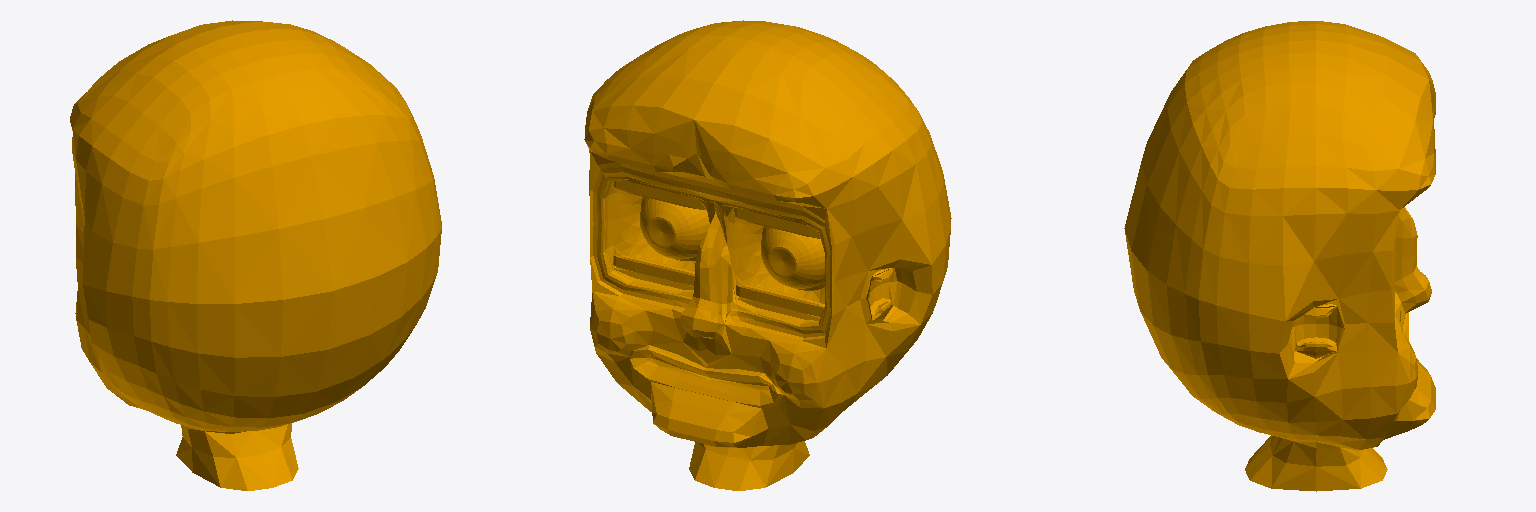
URDF robot description (robothead):
<robot name="robothead">
  <link name="robothead">
    <inertial>
      <origin xyz="0 0 0.0145"/>
      <mass value="0.1" />
      <inertia  ixx="0.0001" ixy="0.0"  ixz="0.0"  iyy="0.0001"  iyz="0.0"  izz="0.0001" />
    </inertial>
    <visual>
      <origin xyz="0 0 0.0145"/>
      <geometry>        
     <mesh filename="robothead.dae" scale="1 1 1"/>
    </geometry>
    </visual>
    <collision>
      <origin xyz="0 0 0.0145"/>
      <geometry>
        <box size="0.029 0.029 0.029"/>
      </geometry>
    </collision>
  </link>
  <gazebo reference="robothead">
    <material>Gazebo/Blue</material>
  </gazebo>
</robot>

--- Facts derived from the render (not from the file) ---
3 views of the same robot in one strip: view 1: azimuth 30°, elevation 25°; view 2: azimuth 150°, elevation 25°; view 3: azimuth 270°, elevation 25° (orthographic).
Model robothead with 1 links and 0 joints (none), rooted at robothead, posed every joint at zero.
Links seen in each view (by area): view 1: robothead; view 2: robothead; view 3: robothead.
Link boxes in pixels (x1=…): robothead: x1=70, y1=20, x2=441, y2=490; robothead: x1=584, y1=20, x2=951, y2=490; robothead: x1=1124, y1=21, x2=1435, y2=491.
Size in the robot's own frame: 0.2284 by 0.1807 by 0.2752 metres.
1 mesh visuals loaded from 1 distinct referenced files (1 Collada DAE).